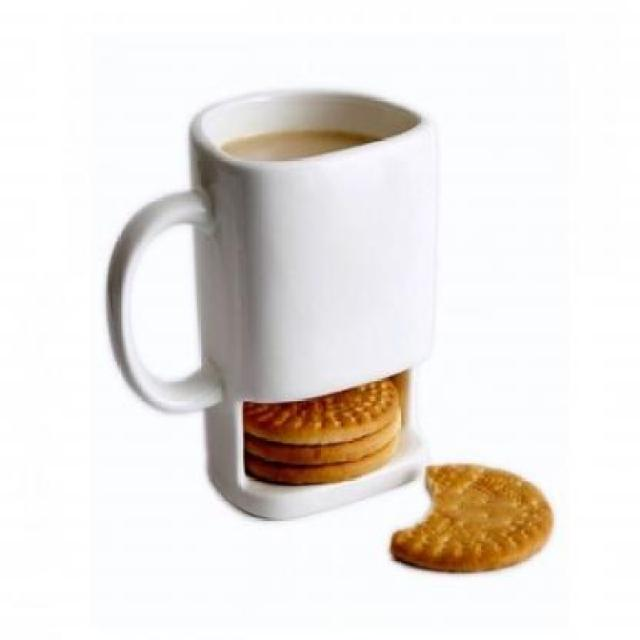cup: (92, 73, 466, 530)
